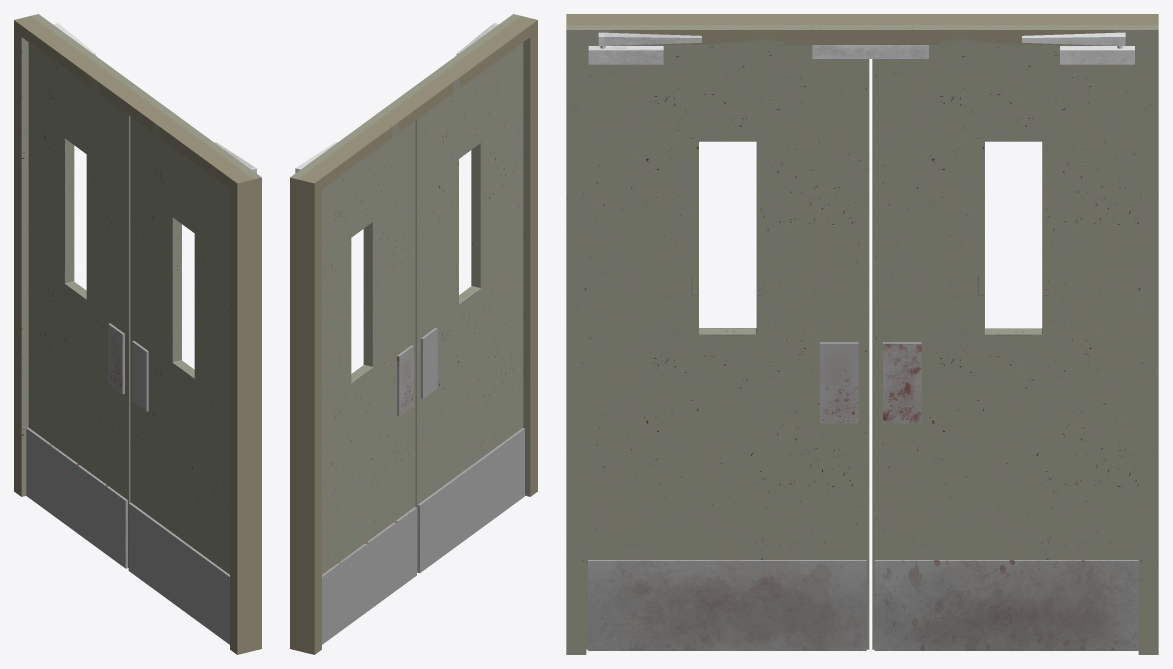
The model's file is hospital_door.glb.
3 views of the same model, side by side, from view 1: azimuth 30°, elevation 25°; view 2: azimuth 150°, elevation 25°; view 3: azimuth 270°, elevation 25° (orthographic). The views are drawn at different scales.
Visible parts, largest first — view 1: door_leaf_a, door_leaf_b, door_frame; view 2: door_leaf_b, door_leaf_a, door_frame; view 3: door_leaf_b, door_leaf_a, door_frame.
Part boxes in pixels (x1,y1,x2,y2): door_leaf_a: (26, 42, 130, 568); door_leaf_b: (128, 117, 229, 644); door_frame: (14, 14, 261, 654); door_leaf_b: (415, 42, 524, 573); door_leaf_a: (322, 121, 416, 644); door_frame: (290, 14, 537, 654); door_leaf_b: (586, 45, 869, 650); door_leaf_a: (872, 45, 1138, 650); door_frame: (566, 14, 1158, 654).
Size of the model in its own units: 0.1854 by 2.62 by 2.25.
Materials: 4 (4 with a texture image).
